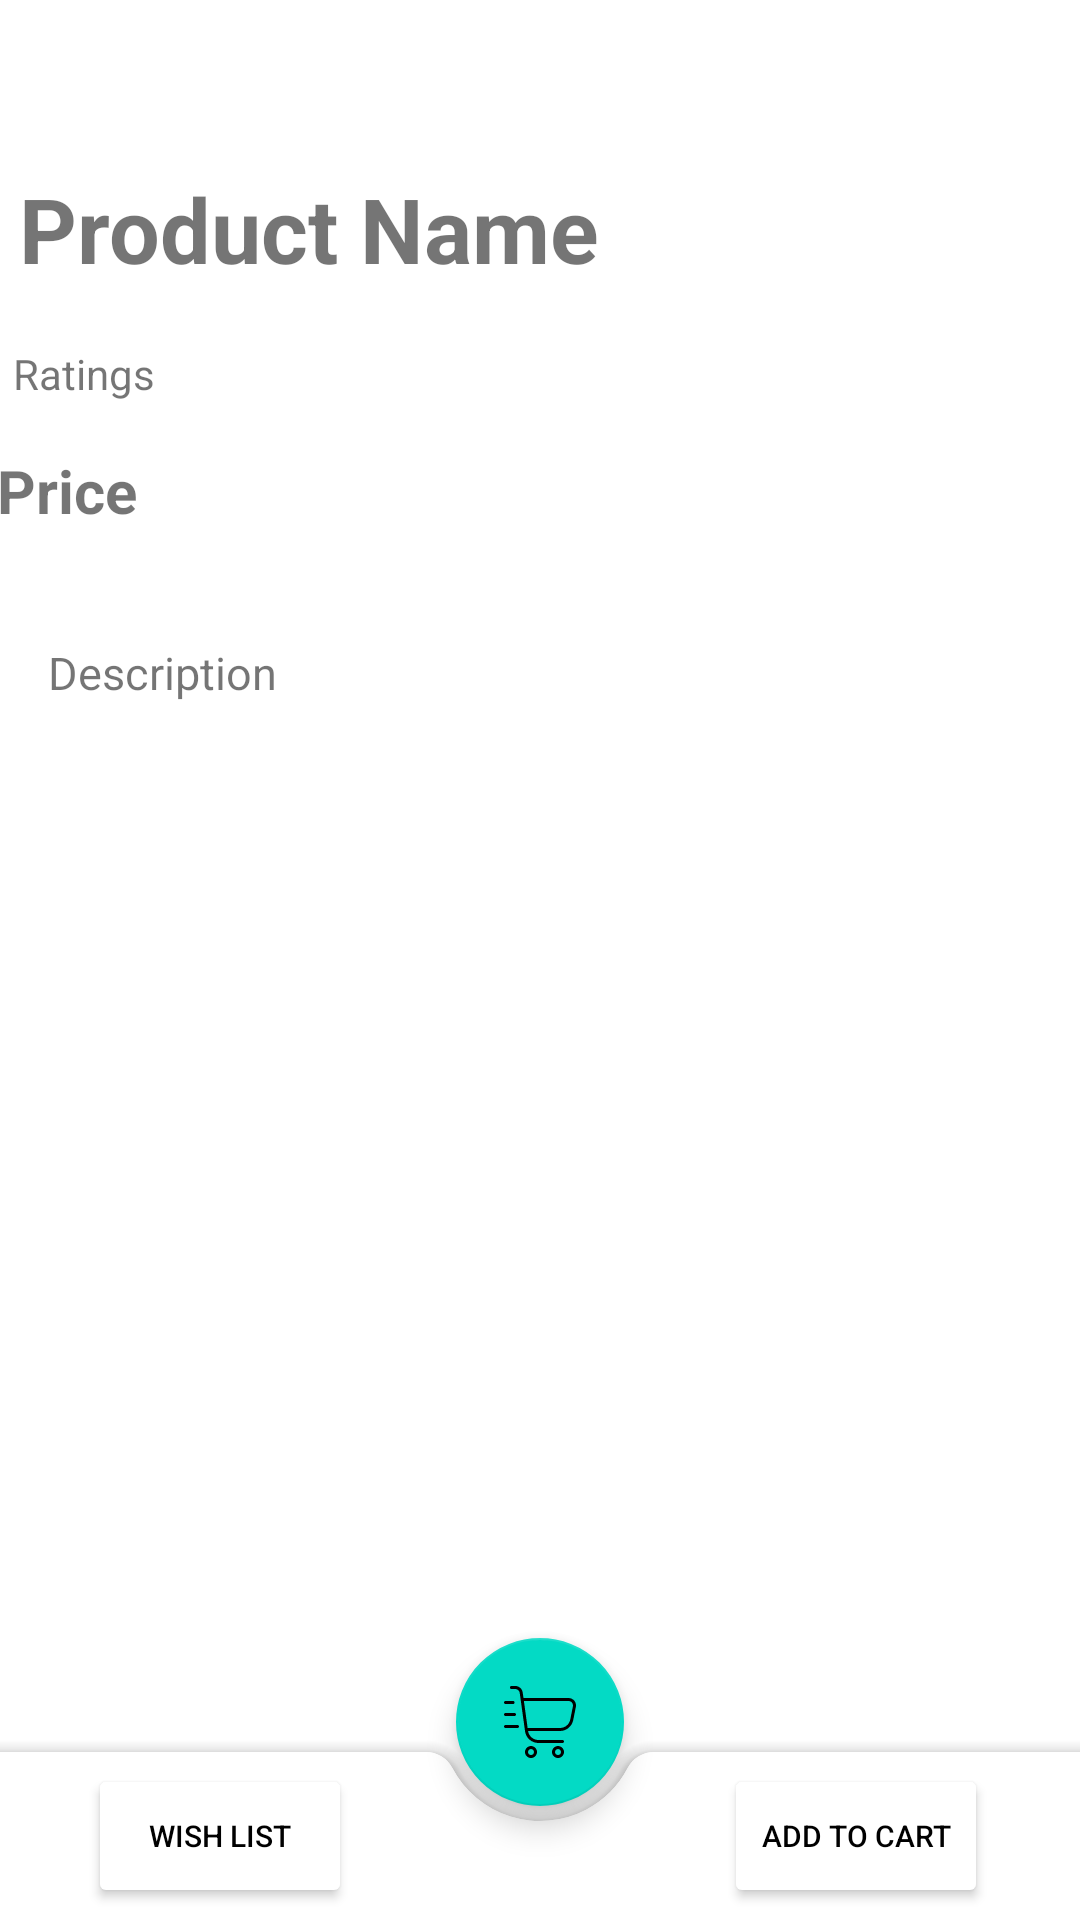

Icon click points for this 1080px x 1920px phone screenshot, format point (x, y):
cart shopping fast: point (540, 1744)
